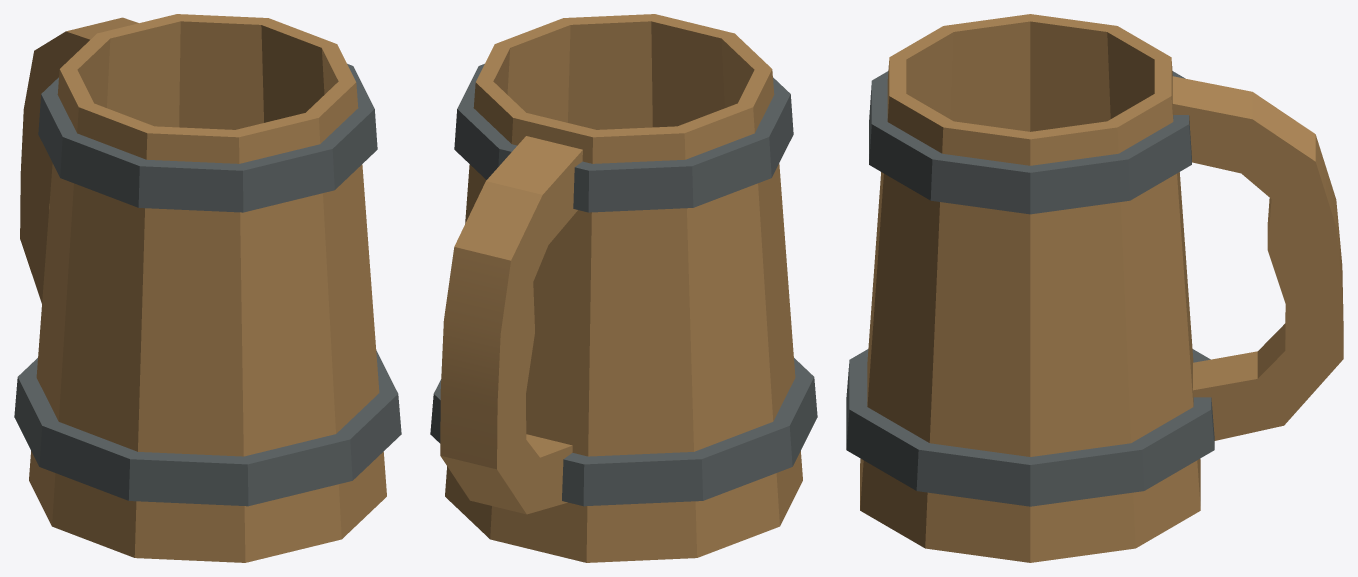
File: mug.fbx
3 views of the same model, side by side, from view 1: azimuth 30°, elevation 25°; view 2: azimuth 150°, elevation 25°; view 3: azimuth 270°, elevation 25° (orthographic).
Parts seen in each view (by area): view 1: mug; view 2: mug; view 3: mug.
Part boxes in pixels (x1,y1,x2,y2): mug: [14, 14, 401, 562]; mug: [430, 14, 817, 562]; mug: [846, 14, 1343, 562].
Bounding box in the file's own units: 28.72 × 33.59 × 36.88.
